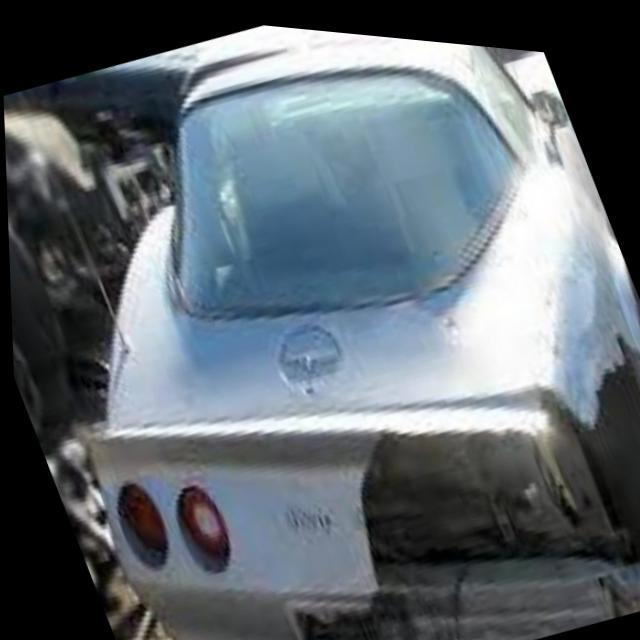no part: (304, 310, 640, 640)
